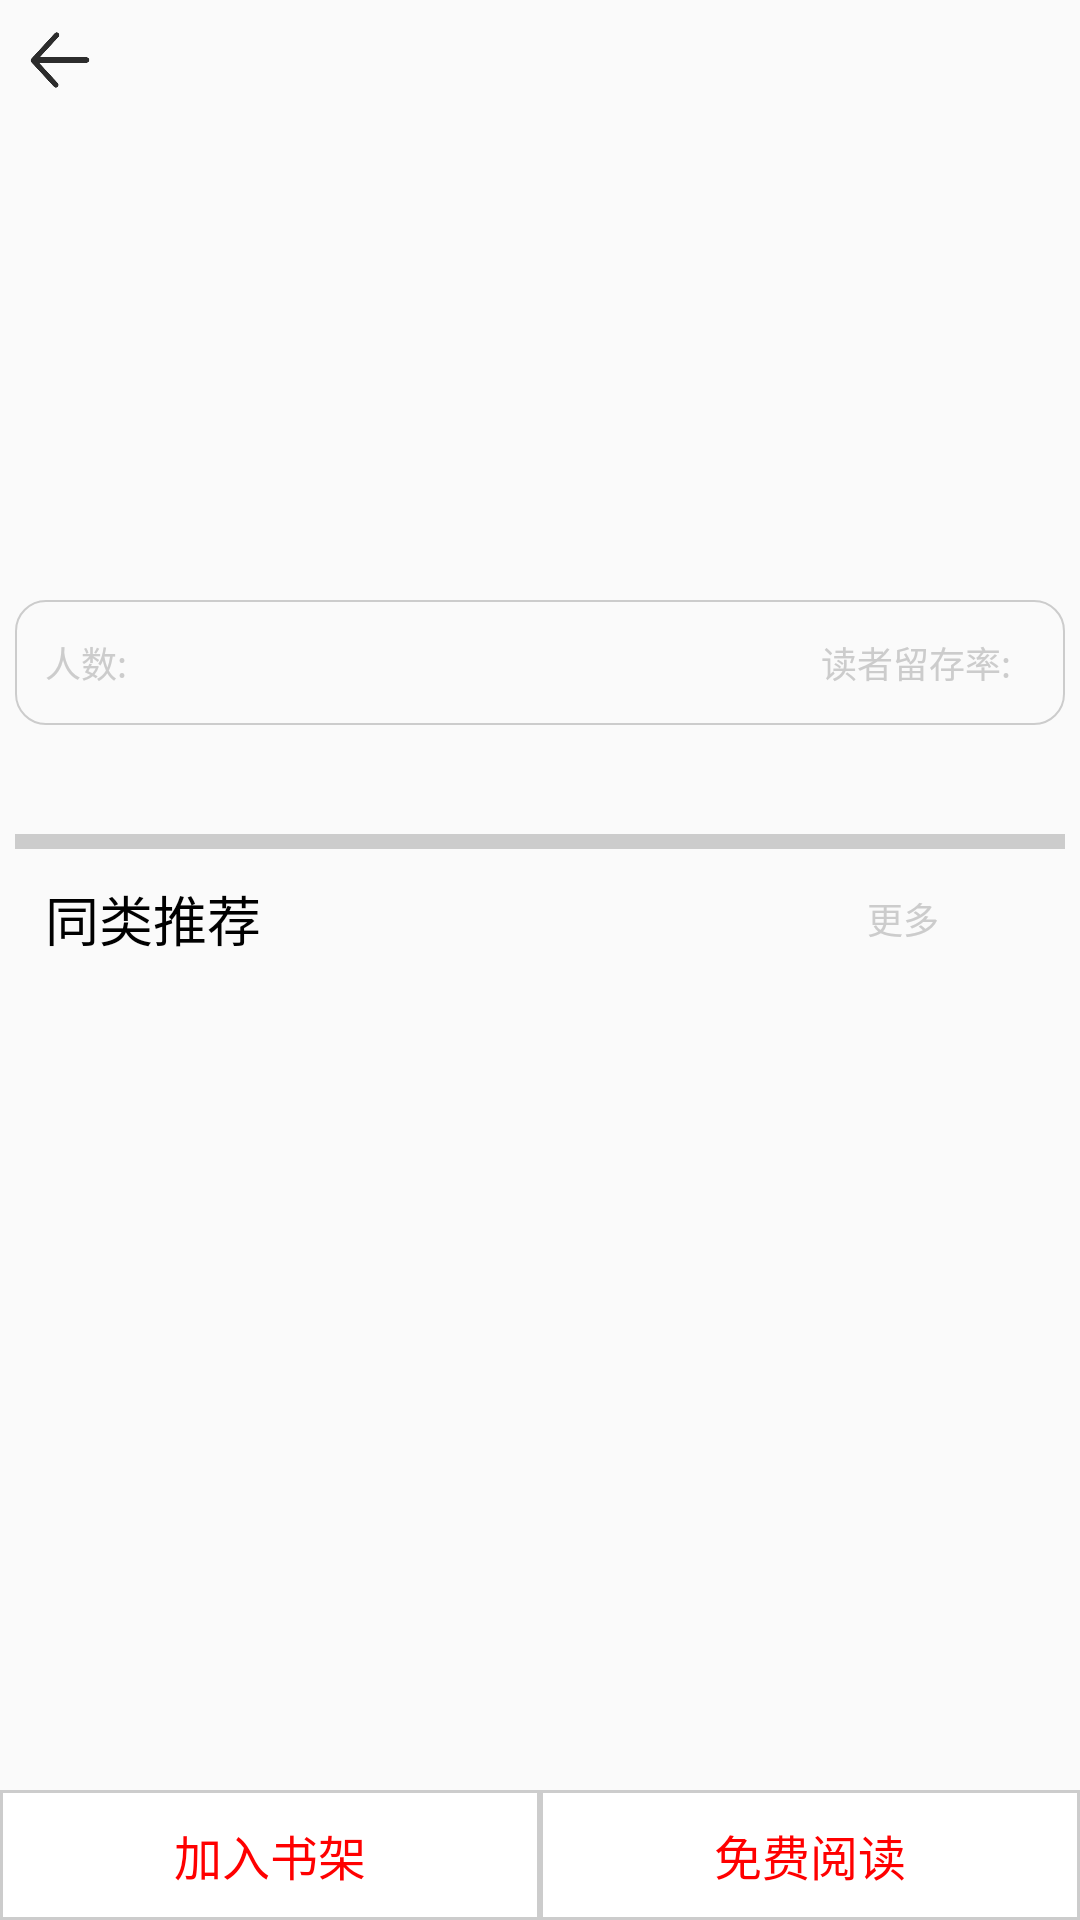

Where icons sit on this 1080 x 1920 app screen, as (x1, y1, x2, y2):
back: (30, 32, 89, 88)
